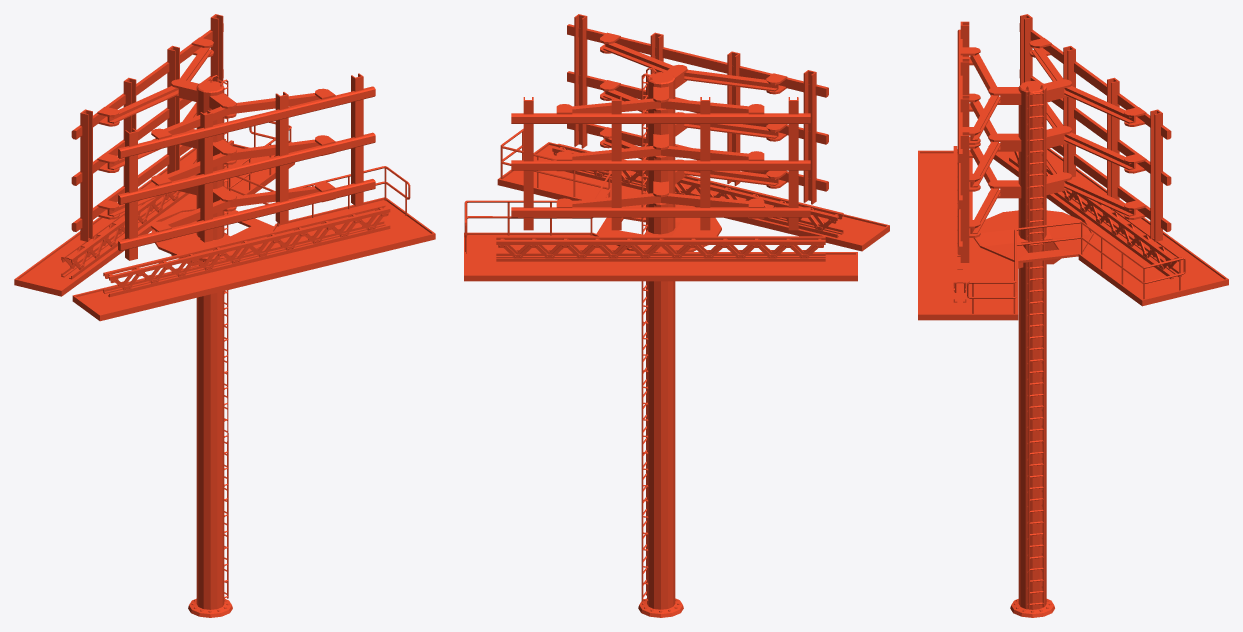
The model's file is SM_Billboard_B_Stand_City.fbx.
3 views of the same model, side by side, from view 1: azimuth 30°, elevation 25°; view 2: azimuth 150°, elevation 25°; view 3: azimuth 270°, elevation 25° (orthographic).
Visible parts, largest first — view 1: SM_Billboard_B_Stand_City; view 2: SM_Billboard_B_Stand_City; view 3: SM_Billboard_B_Stand_City.
Part boxes in pixels (x1=…): SM_Billboard_B_Stand_City: x1=14, y1=14, x2=435, y2=617; SM_Billboard_B_Stand_City: x1=464, y1=14, x2=889, y2=617; SM_Billboard_B_Stand_City: x1=918, y1=14, x2=1228, y2=617.
Size of the model in its own units: 13.1 by 18.27 by 9.72.
